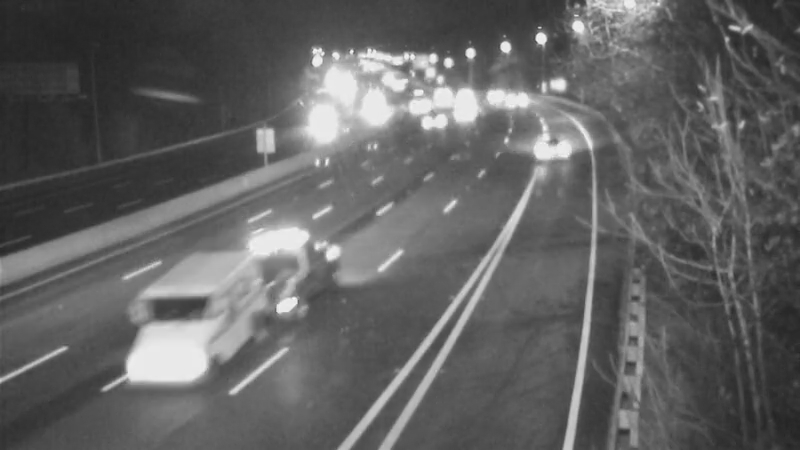vehicle: (211, 248, 291, 328), (391, 66, 441, 116), (417, 68, 467, 118), (475, 70, 525, 120), (441, 69, 491, 119), (419, 78, 469, 128), (485, 74, 535, 124), (395, 81, 445, 131), (439, 90, 489, 140), (408, 95, 458, 145), (523, 124, 573, 174), (301, 91, 351, 141)
